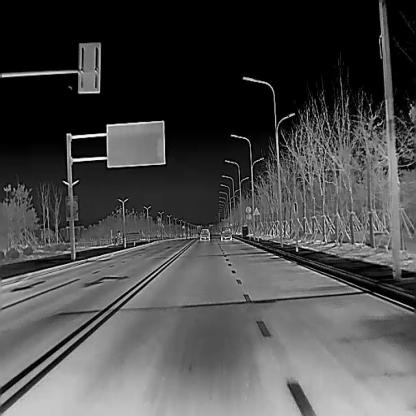car: (220, 226, 232, 240), (199, 228, 209, 240)
